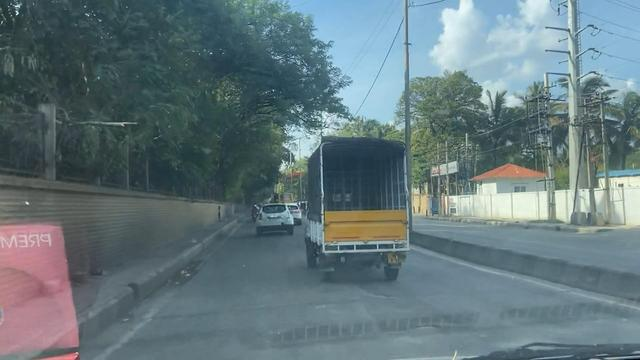HMV: (303, 135, 408, 279)
LMV: (257, 205, 293, 235)
RoadDamages: (299, 279, 406, 315), (399, 319, 444, 339)
